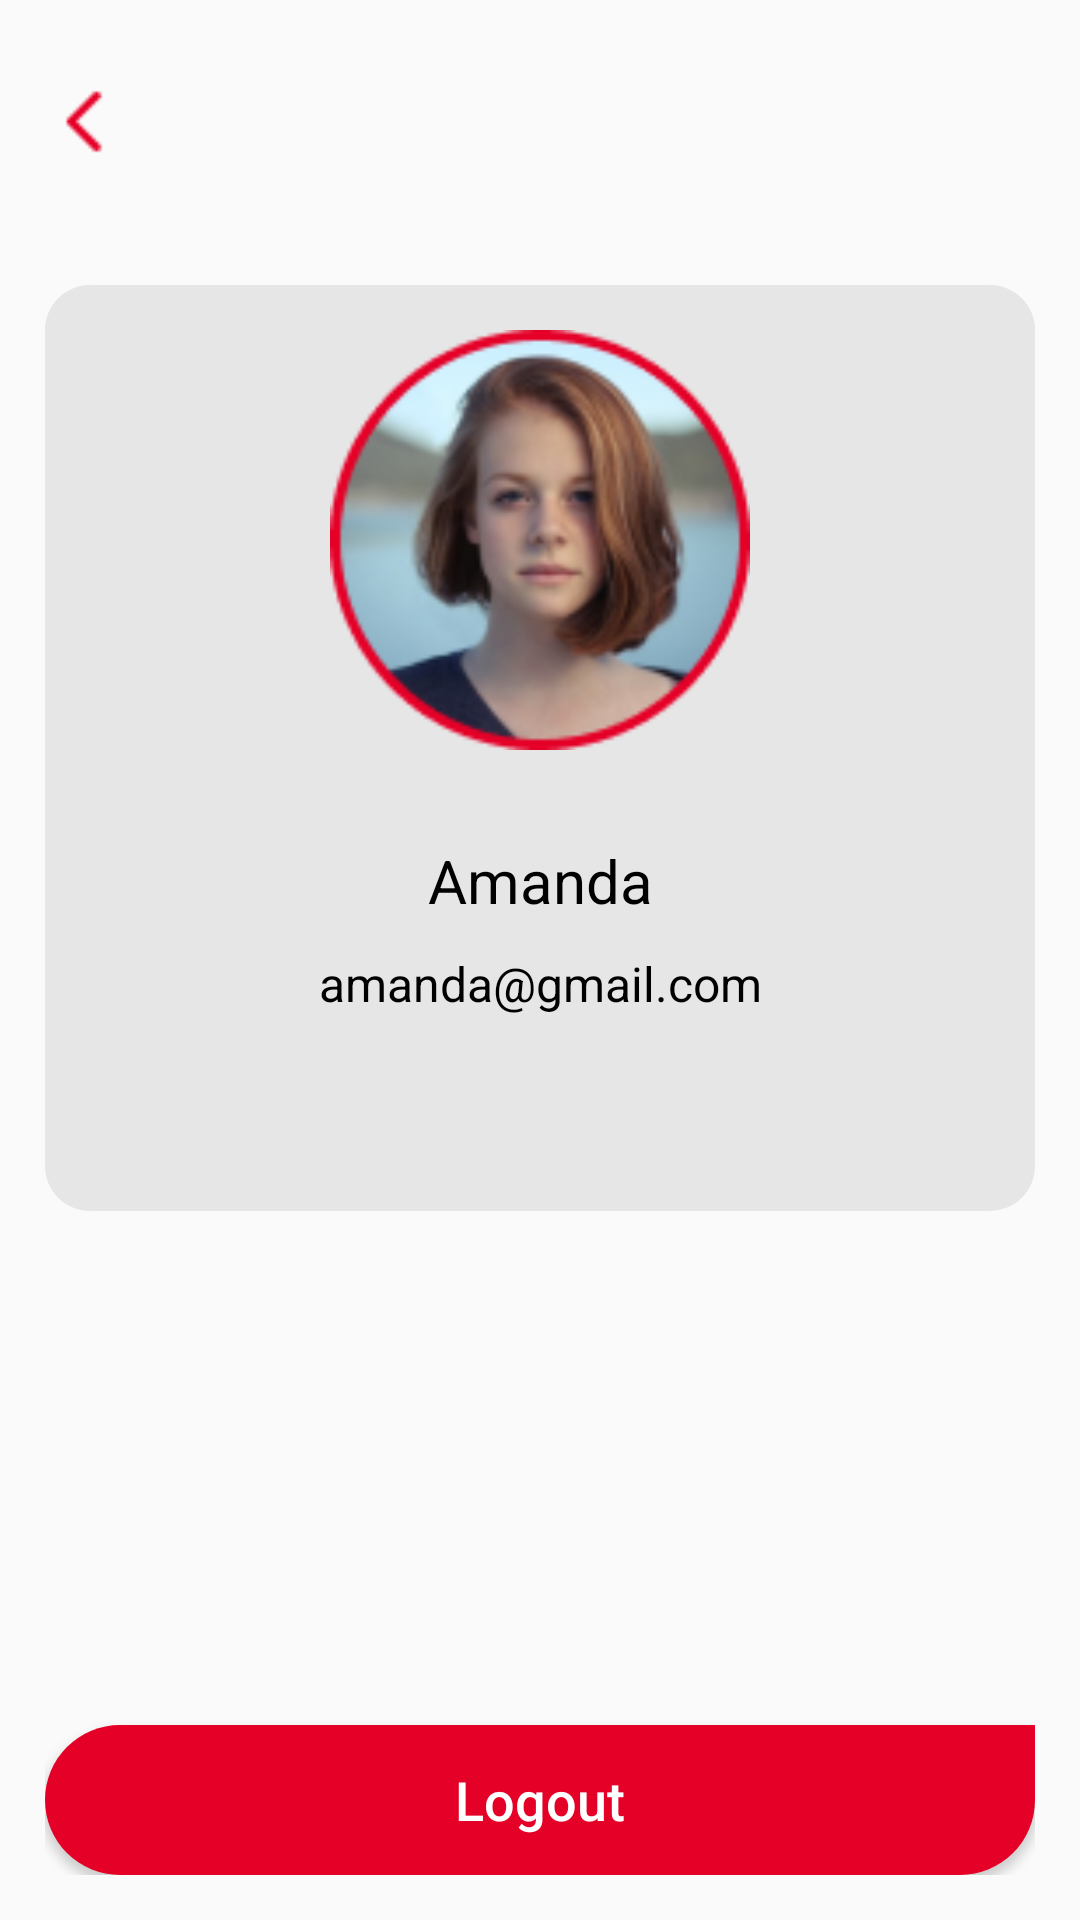

Screen size 1080 x 1920. Icon name, then its box in pixels as (x1, y1, x2, y2):
back: (66, 91, 102, 152)
